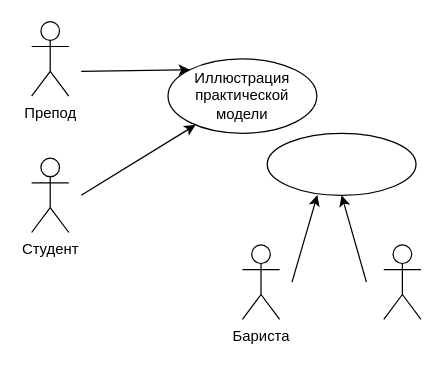
Image size: 448x367. Some labels were removed from this diagram. Each missing label, with the box of its shape:
Клиент: (383, 244, 421, 319)
Рассчитать время остывание кофе: (266, 132, 416, 195)
